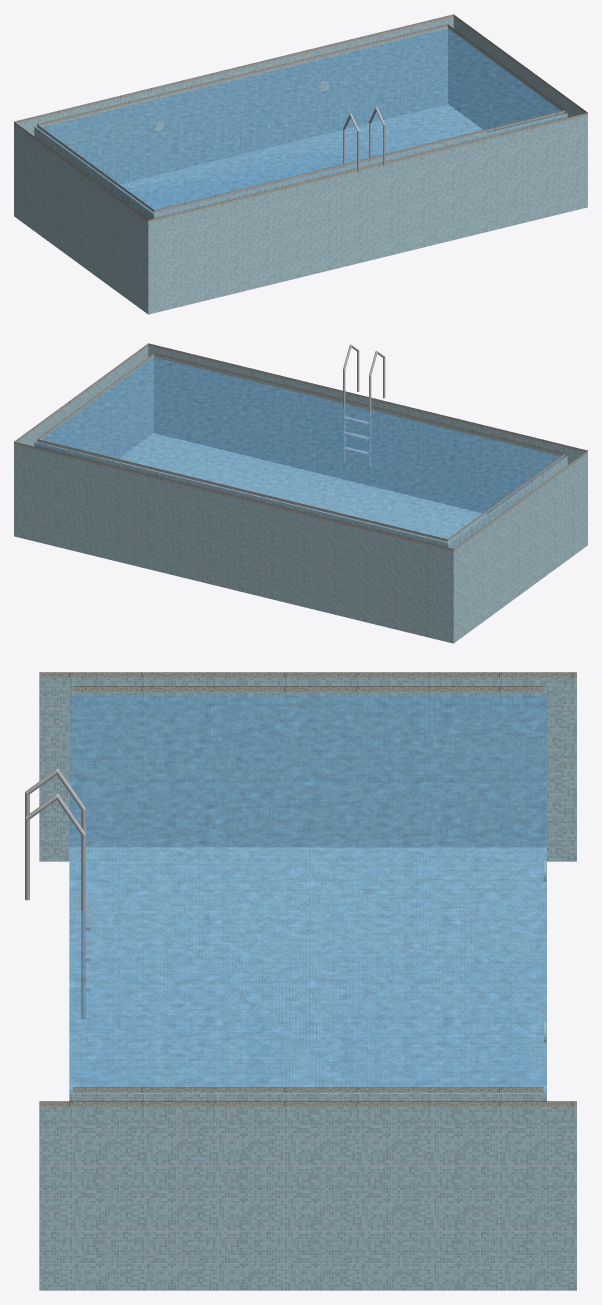
3 views of the same model, one above another, from view 1: azimuth 30°, elevation 25°; view 2: azimuth 150°, elevation 25°; view 3: azimuth 270°, elevation 25° (orthographic). The views are drawn at different scales.
Parts seen in each view (by area): view 1: water.swimming_pool (×4); view 2: water.swimming_pool (×4); view 3: water.swimming_pool (×4).
Part boxes in pixels (box(x1,y1,x2,y2)): water.swimming_pool (×4): box(14, 14, 587, 314); water.swimming_pool (×4): box(14, 343, 587, 643); water.swimming_pool (×4): box(25, 672, 576, 1290).
Bounding box in the file's own units: 8.5 × 4.62 × 2.72.
5 materials, 3 textured.
